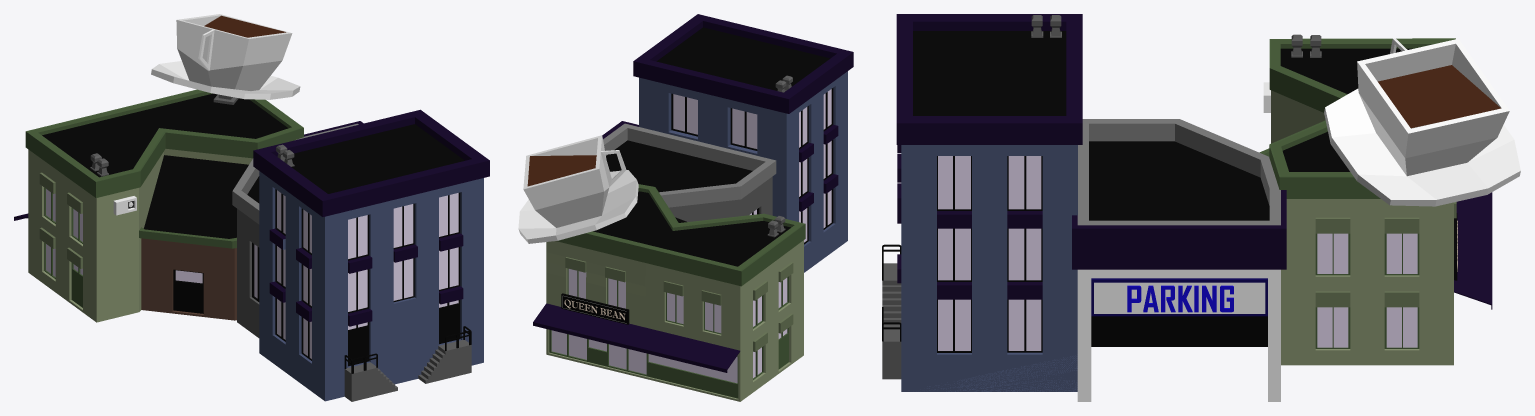
The model's file is parking_garage1.fbx.
3 renders of one model, left to right at view 1: azimuth 30°, elevation 25°; view 2: azimuth 150°, elevation 25°; view 3: azimuth 270°, elevation 25°, orthographic. The views are drawn at different scales.
Visible parts, largest first — view 1: parking lot 2; view 2: parking lot 2; view 3: parking lot 2.
Boxes of the visible parts, bbox=[...] form: parking lot 2: bbox=[14, 14, 489, 401]; parking lot 2: bbox=[518, 14, 853, 401]; parking lot 2: bbox=[882, 14, 1520, 401].
Size of the model in its own units: 4758 by 3623 by 7226.
